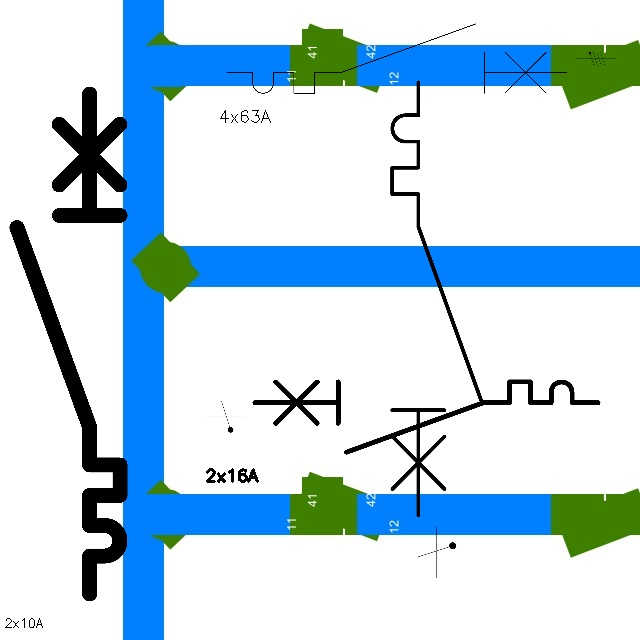interruptor_termomagnetico: (4, 81, 133, 607), (381, 71, 492, 527), (245, 373, 606, 461), (218, 15, 575, 102)
